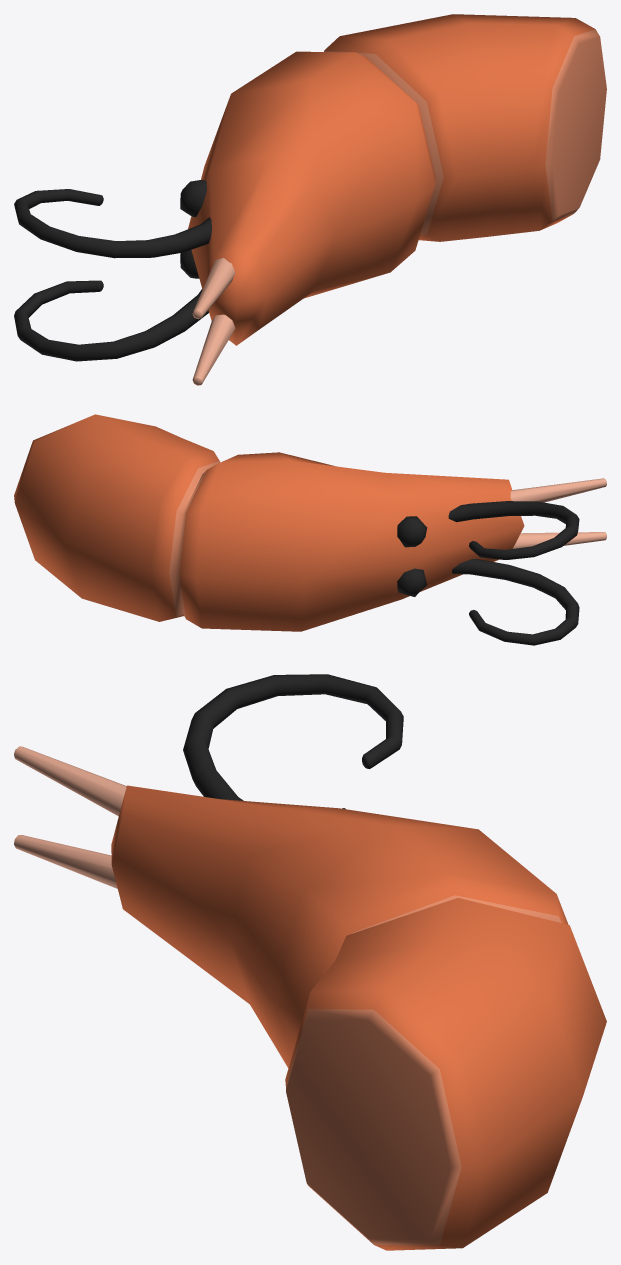
The model's file is Shrimp_1_Half_1.fbx.
The picture shows the model from 3 angles, top to bottom: view 1: azimuth 30°, elevation 25°; view 2: azimuth 150°, elevation 25°; view 3: azimuth 270°, elevation 25°; orthographic projection. The views are drawn at different scales.
Visible parts, largest first — view 1: Shrimp_1_Half_1; view 2: Shrimp_1_Half_1; view 3: Shrimp_1_Half_1.
Part boxes in pixels (x1=…): Shrimp_1_Half_1: x1=14, y1=14, x2=606, y2=385; Shrimp_1_Half_1: x1=14, y1=414, x2=606, y2=645; Shrimp_1_Half_1: x1=14, y1=674, x2=606, y2=1250.
Bounding box in the file's own units: 12.87 × 3.95 × 7.84.
